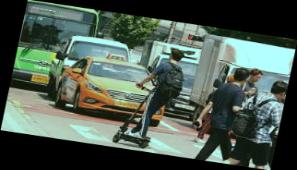nonhelmet: (110, 41, 190, 151)
